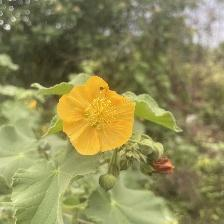indian mallow: (56, 75, 140, 158)
